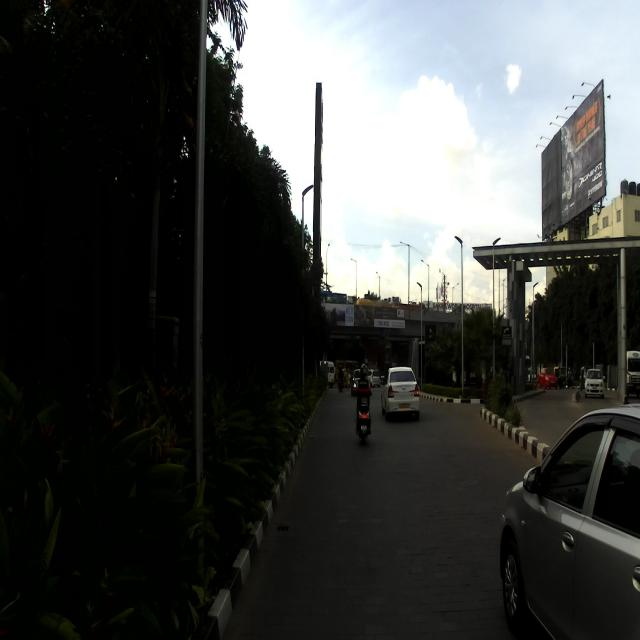car: (498, 405, 639, 639), (379, 363, 421, 422)
